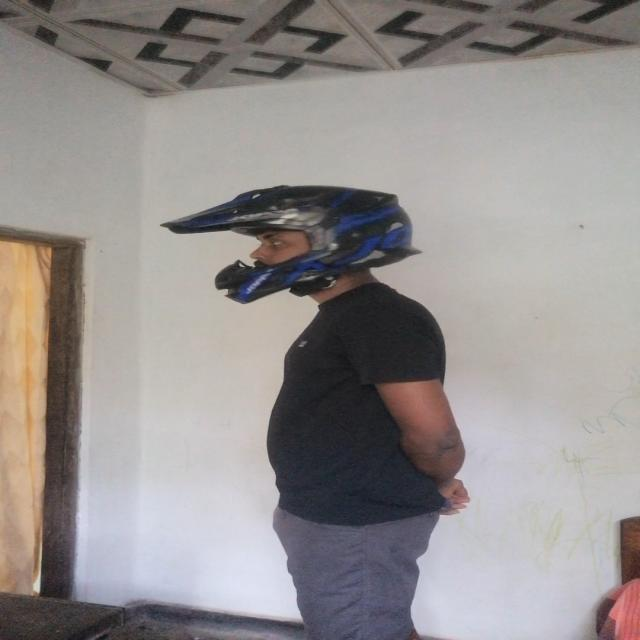Helmet_Wearer: (158, 172, 435, 320)
Person: (212, 180, 486, 640)
